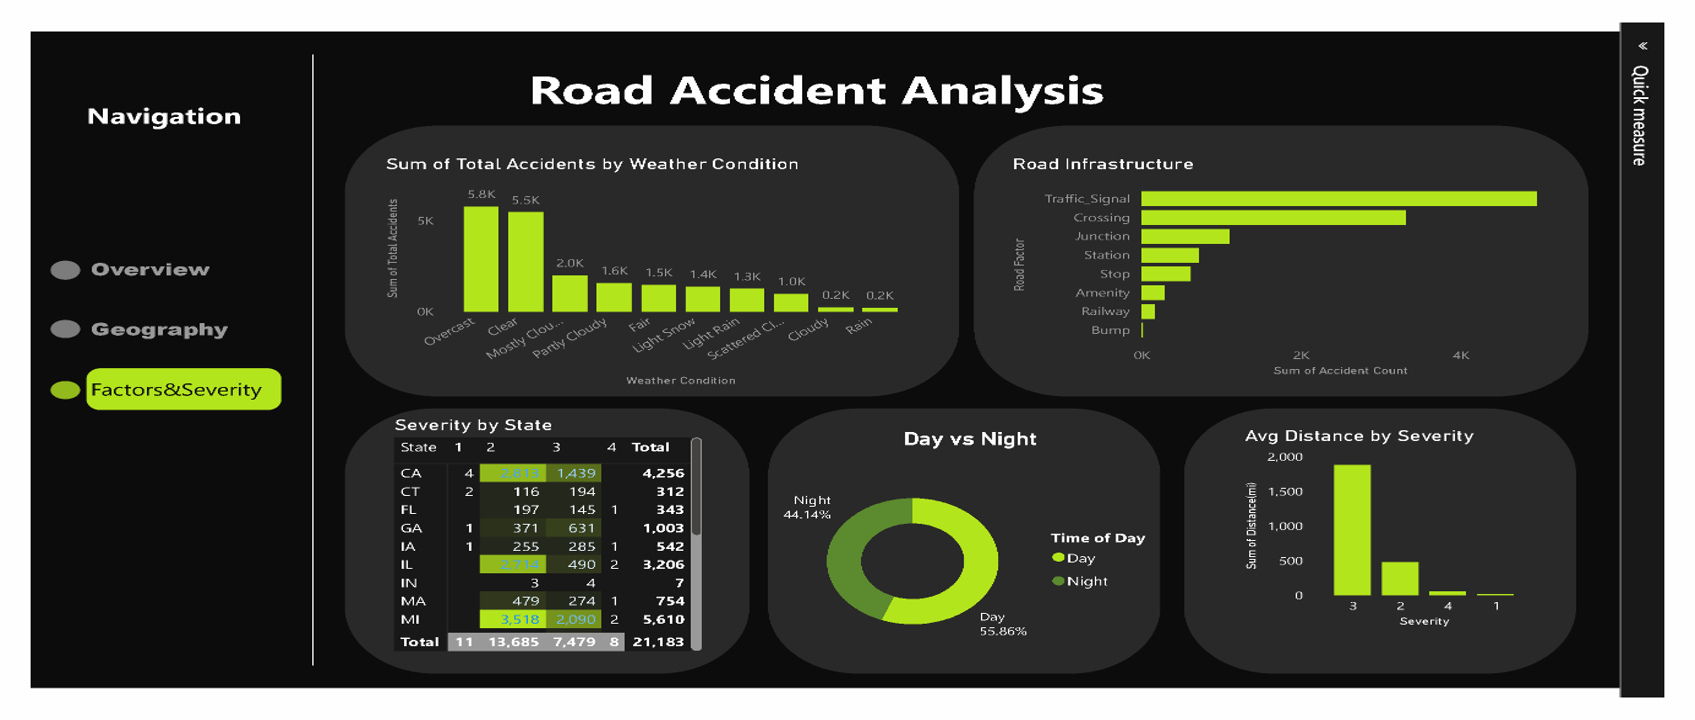

Layout of this report page (visuals, bound fields, positions):
{"tool":"powerbi","page":{"name":"Factors&Severity","canvas":[1280,720],"ordinal":2},"visuals":[{"type":"pageNavigator","box":[39.8,231.9,167.4,189.4],"z":0},{"type":"shape","box":[16.5,251.1,23.3,20.6],"z":1000},{"type":"shape","box":[16.5,382.8,23.3,20.6],"z":2000},{"type":"shape","box":[16.5,315.6,23.3,20.6],"z":3000},{"type":"shape","box":[252.5,102.5,495,297.5],"z":4000},{"type":"textbox","box":[39.8,70,167.4,64.5],"z":5000},{"type":"shape","box":[760,102.5,495,297.5],"z":6000},{"type":"shape","box":[195,25,65,670],"z":7000},{"type":"shape","box":[252.5,412.5,326.2,291.2],"z":8000},{"type":"clusteredColumnChart","fields":{"Category":["top_weather_conditions.Weather Condition"],"Y":["Sum(top_weather_conditions.Total Accidents)"]},"box":[281.2,135,436.2,258.8],"z":9000},{"type":"textbox","box":[396.2,27.5,487.5,85],"z":10000},{"type":"shape","box":[593.8,412.5,316.2,291.2],"z":11000},{"type":"clusteredBarChart","title":"Road Infrastructure","fields":{"Category":["road_factor_impact.Road Factor"],"Y":["Sum(road_factor_impact.Accident Count)"]},"box":[786.2,135,441.2,247.5],"z":12000},{"type":"pivotTable","title":"Severity by State","fields":{"Rows":["depi projectt (1).State"],"Columns":["depi projectt (1).Severity"],"Values":["depi projectt (1).Total Accidents"]},"box":[287.5,421.2,258.8,262.5],"z":13000},{"type":"donutChart","title":"Day vs Night","fields":{"Category":["depi projectt (1).Sunrise_Sunset"],"Y":["depi projectt (1).Total Accidents"]},"box":[593.8,435,326.2,268.8],"z":14000},{"type":"shape","box":[928.8,412.5,316.2,291.2],"z":15000},{"type":"clusteredColumnChart","title":"Avg Distance by Severity","fields":{"Category":["depi projectt (1).Severity"],"Y":["Sum(depi projectt (1).Distance(mi))"]},"box":[972.5,432.5,243.8,225],"z":16000}]}

Visuals, with their boxes on the page's 1280x720 design canvas (x1, y1, x2, y2). These are canvas units, not pixel positions in the 1695x720 screenshot, which may show the page scaled, cropped or inside an application window:
pageNavigator: left=40, top=232, right=207, bottom=421
shape: left=16, top=251, right=40, bottom=272
shape: left=16, top=383, right=40, bottom=403
shape: left=16, top=316, right=40, bottom=336
shape: left=252, top=102, right=748, bottom=400
textbox: left=40, top=70, right=207, bottom=134
shape: left=760, top=102, right=1255, bottom=400
shape: left=195, top=25, right=260, bottom=695
shape: left=252, top=412, right=579, bottom=704
clusteredColumnChart - top_weather_conditions.Weather Condition x Sum(top_weather_conditions.Total Accidents): left=281, top=135, right=717, bottom=394
textbox: left=396, top=28, right=884, bottom=112
shape: left=594, top=412, right=910, bottom=704
"Road Infrastructure" clusteredBarChart: left=786, top=135, right=1227, bottom=382
"Severity by State" pivotTable: left=288, top=421, right=546, bottom=684
"Day vs Night" donutChart: left=594, top=435, right=920, bottom=704
shape: left=929, top=412, right=1245, bottom=704
"Avg Distance by Severity" clusteredColumnChart: left=972, top=432, right=1216, bottom=658
